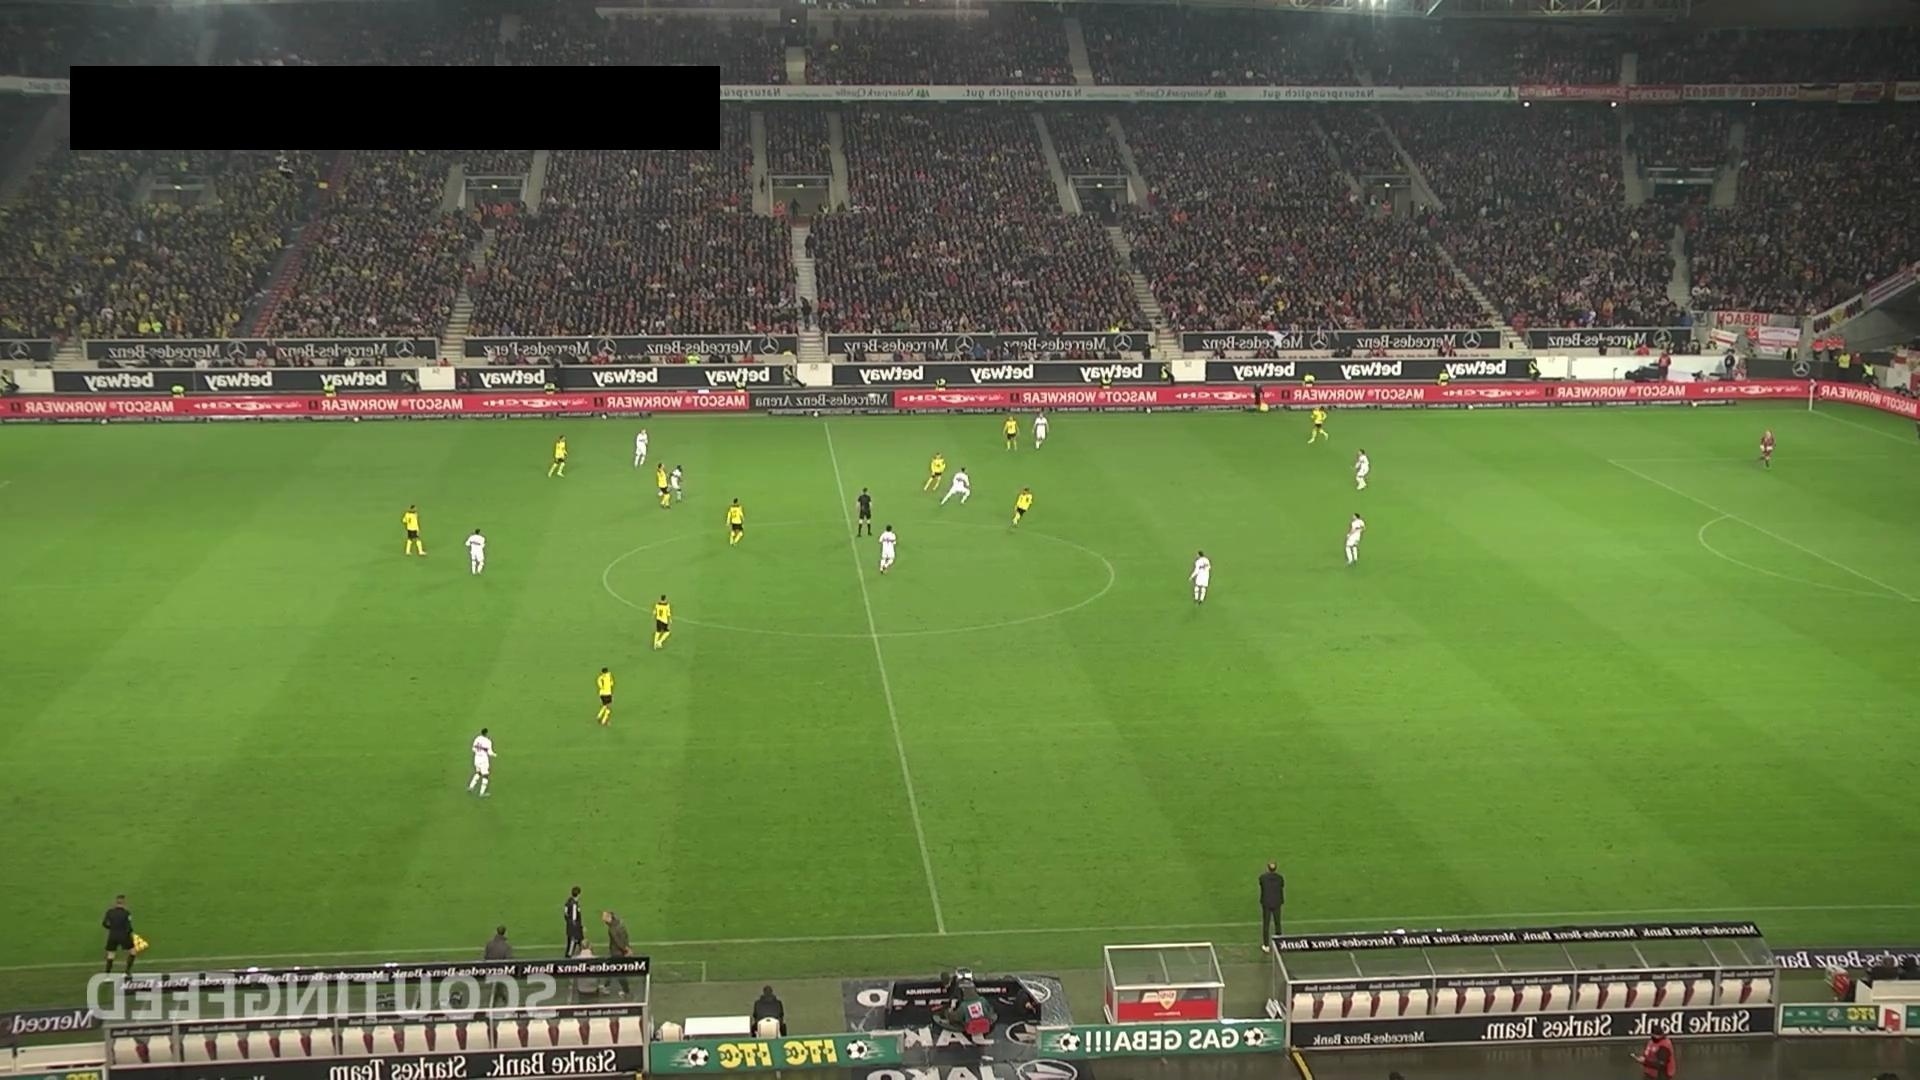goalkeeper: (1759, 429, 1775, 469)
player: (466, 726, 496, 796), (401, 503, 427, 557), (940, 465, 971, 506), (1188, 549, 1211, 604), (595, 665, 615, 726), (652, 593, 673, 650), (1344, 512, 1366, 565), (1008, 485, 1033, 529), (922, 450, 948, 492), (465, 527, 487, 574), (878, 523, 897, 574), (547, 433, 568, 478), (726, 497, 745, 546), (1307, 405, 1330, 444), (655, 460, 671, 507), (1353, 447, 1370, 490), (1032, 409, 1049, 450), (633, 427, 649, 469), (668, 464, 684, 504), (1003, 412, 1019, 451)
referee: (101, 892, 149, 987), (856, 486, 873, 538), (1251, 380, 1270, 414)
